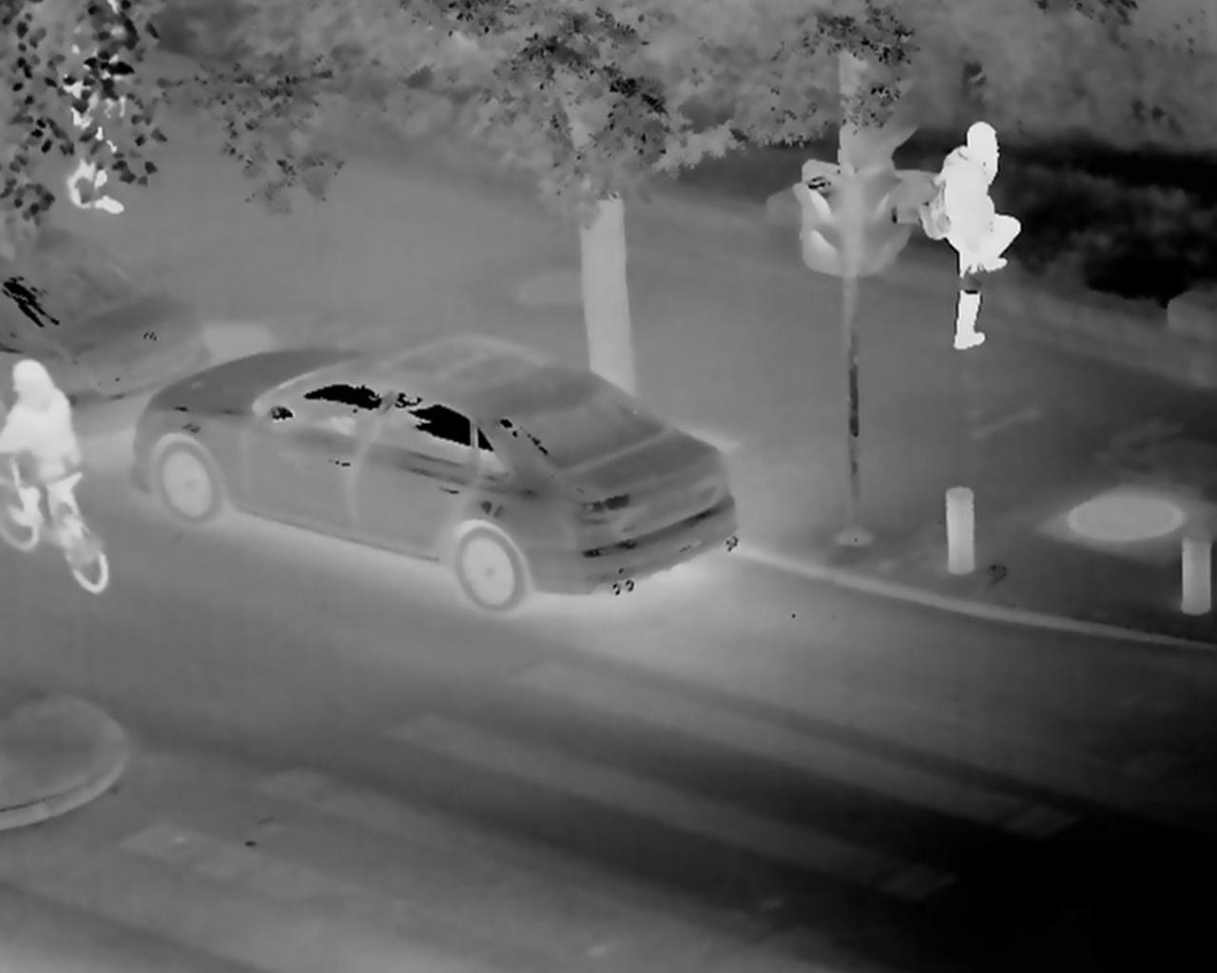person: (929, 120, 1021, 361), (3, 358, 102, 555)
